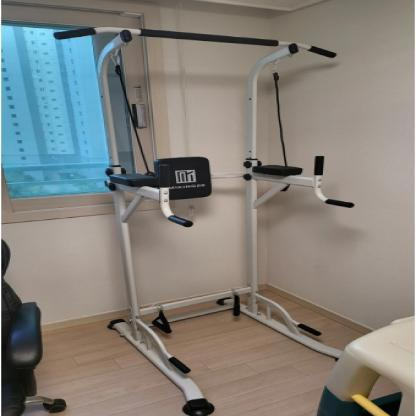chinning dipping: (56, 25, 354, 348)
